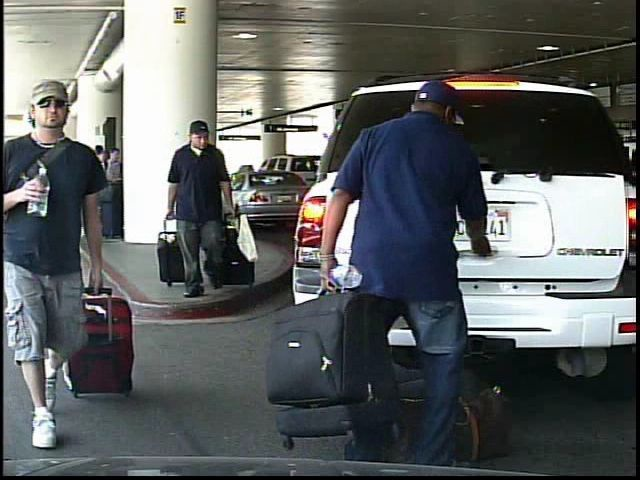person: (316, 75, 508, 473), (5, 79, 136, 454), (159, 119, 248, 301)
